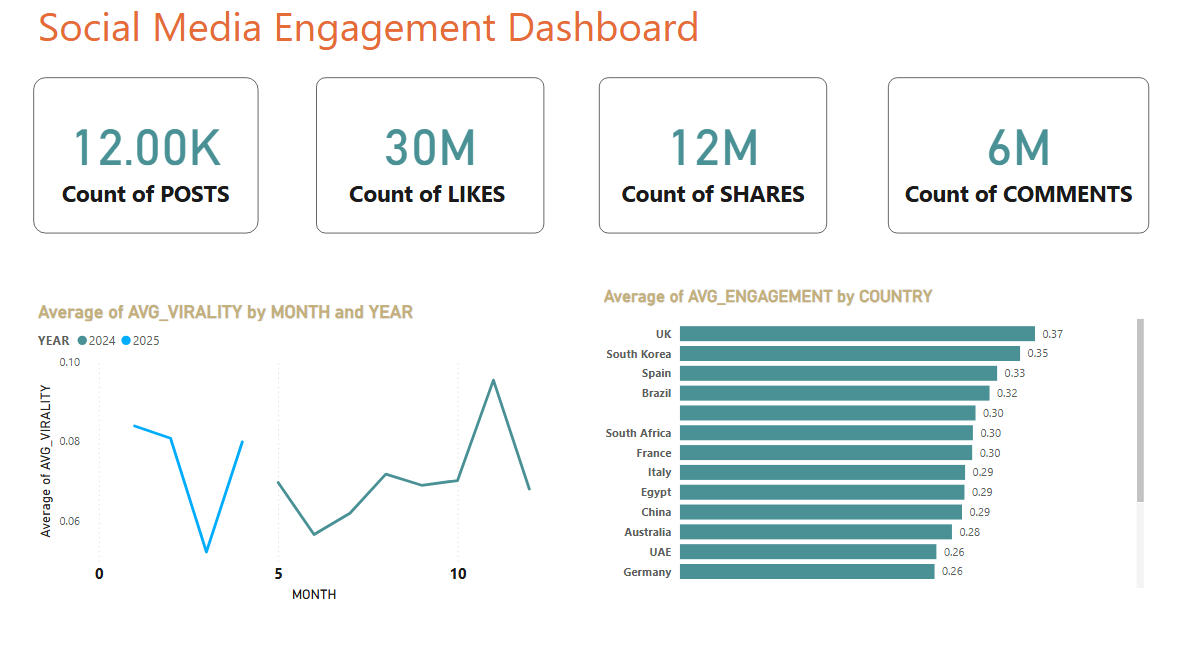

Layout of this report page (visuals, bound fields, positions):
{"tool":"powerbi","page":{"name":"Page 1","canvas":[1280,720],"ordinal":0},"visuals":[{"type":"card","fields":{"Values":["Count(STG_FACT_TABLE.POST_ID)"]},"box":[36.7,90,240,166.7],"z":0},{"type":"card","fields":{"Values":["Sum(STG_FACT_TABLE.LIKES_COUNT)"]},"box":[338.3,90,243.3,166.7],"z":1000},{"type":"card","fields":{"Values":["Sum(STG_FACT_TABLE.SHARES_COUNT)"]},"box":[640,90,243.3,166.7],"z":2000},{"type":"card","fields":{"Values":["Sum(STG_FACT_TABLE.COMMENTS_COUNT)"]},"box":[948.3,90,278.3,166.7],"z":3000},{"type":"lineChart","fields":{"Y":["Avg(MART_PLATFORM_TRENDS.AVG_VIRALITY)"],"Category":["MART_PLATFORM_TRENDS.MONTH"],"Series":["MART_PLATFORM_TRENDS.YEAR"]},"box":[37.2,327.7,543.9,326],"z":4000},{"type":"clusteredBarChart","fields":{"Category":["MART_USER_GEO_ENGAGE.COUNTRY"],"Y":["Avg(MART_USER_GEO_ENGAGE.AVG_ENGAGEMENT)"]},"box":[639.5,313.6,586.4,326],"z":5000},{"type":"textbox","box":[37.2,0,935.4,74.4],"z":6000}]}

Visuals, with their boxes in screenshot pixels (x1, y1, x2, y2), scaled from the page's 1280x720 canvas onto the 1194x665 screenshot:
card - Count(STG_FACT_TABLE.POST_ID): (left=34, top=83, right=258, bottom=237)
card - Sum(STG_FACT_TABLE.LIKES_COUNT): (left=316, top=83, right=543, bottom=237)
card - Sum(STG_FACT_TABLE.SHARES_COUNT): (left=597, top=83, right=824, bottom=237)
card - Sum(STG_FACT_TABLE.COMMENTS_COUNT): (left=885, top=83, right=1144, bottom=237)
lineChart - Avg(MART_PLATFORM_TRENDS.AVG_VIRALITY) x MART_PLATFORM_TRENDS.MONTH: (left=35, top=303, right=542, bottom=604)
clusteredBarChart - MART_USER_GEO_ENGAGE.COUNTRY x Avg(MART_USER_GEO_ENGAGE.AVG_ENGAGEMENT): (left=597, top=290, right=1144, bottom=591)
textbox: (left=35, top=0, right=907, bottom=69)
